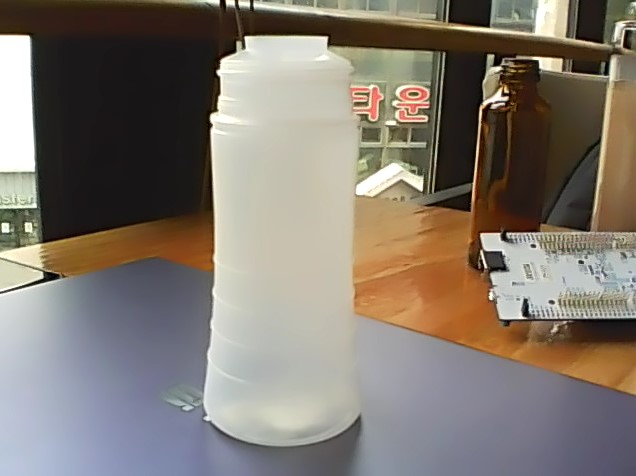Plastic: (204, 30, 362, 448)
